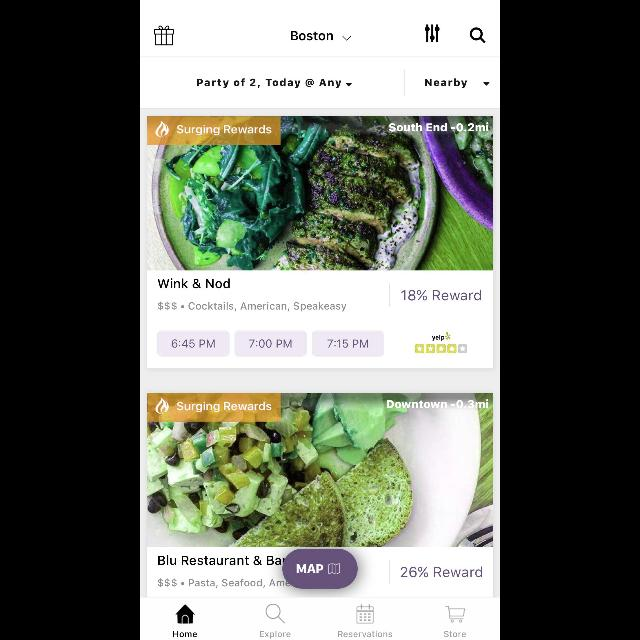icon: (414, 344, 468, 354), (152, 24, 174, 46), (264, 603, 284, 623), (174, 604, 193, 624), (356, 604, 374, 624), (444, 606, 466, 622), (424, 23, 440, 43), (469, 26, 486, 44), (342, 36, 352, 40), (346, 83, 352, 87), (484, 82, 490, 86)
image: (148, 116, 492, 270), (148, 393, 492, 547), (155, 396, 169, 414), (155, 122, 169, 138), (432, 332, 451, 341)
text: (158, 302, 346, 312), (157, 554, 286, 566), (197, 79, 341, 89), (158, 578, 292, 588), (400, 565, 482, 579), (178, 124, 272, 136), (389, 122, 489, 132), (176, 402, 270, 412), (386, 399, 488, 408), (401, 290, 481, 300), (157, 278, 230, 288), (291, 30, 333, 42), (337, 630, 393, 638), (425, 78, 467, 88), (259, 630, 289, 640), (442, 630, 466, 638), (172, 630, 196, 638)
textbutton: (282, 548, 358, 590), (157, 331, 230, 357), (235, 330, 307, 356), (312, 330, 384, 356)
